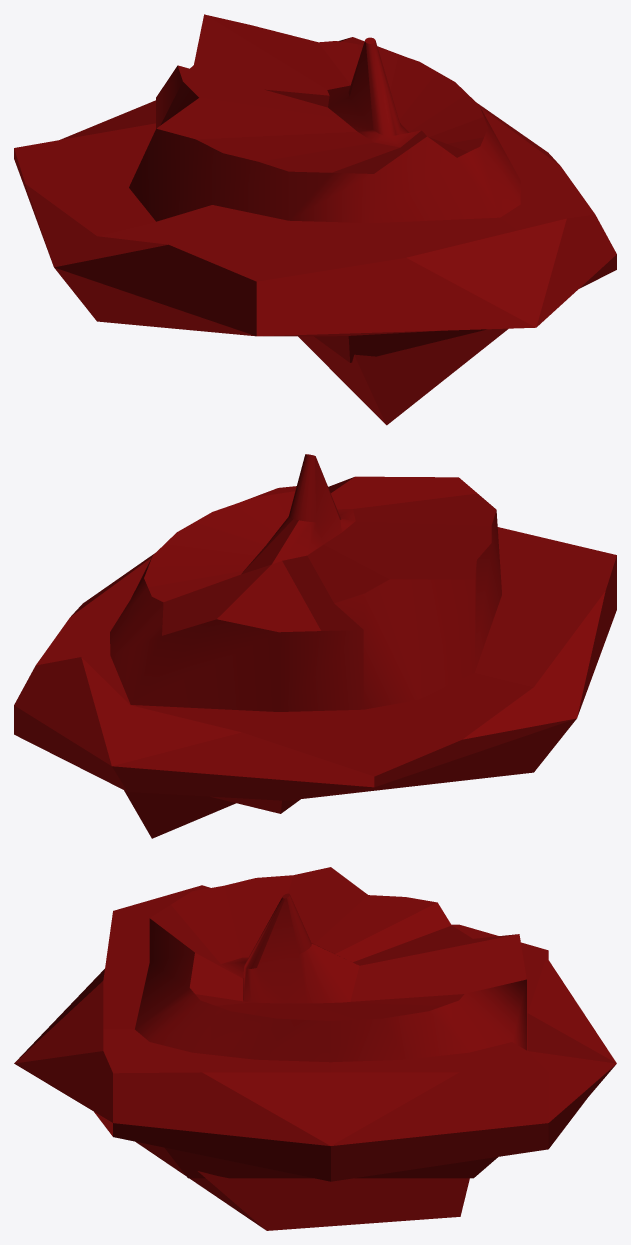
The model's file is Sun Dial Bad.fbx.
The picture shows the model from 3 angles, top to bottom: view 1: azimuth 30°, elevation 25°; view 2: azimuth 150°, elevation 25°; view 3: azimuth 270°, elevation 25°; orthographic projection. The views are drawn at different scales.
Parts seen in each view (by area): view 1: pCube2; view 2: pCube2; view 3: pCube2.
Part boxes in pixels (box(x1,y1,x2,y2)): pCube2: box(14, 14, 616, 425); pCube2: box(14, 454, 616, 838); pCube2: box(14, 867, 616, 1230).
Size of the model in its own units: 58.82 by 37.38 by 69.21.
1 material, 1 textured.
